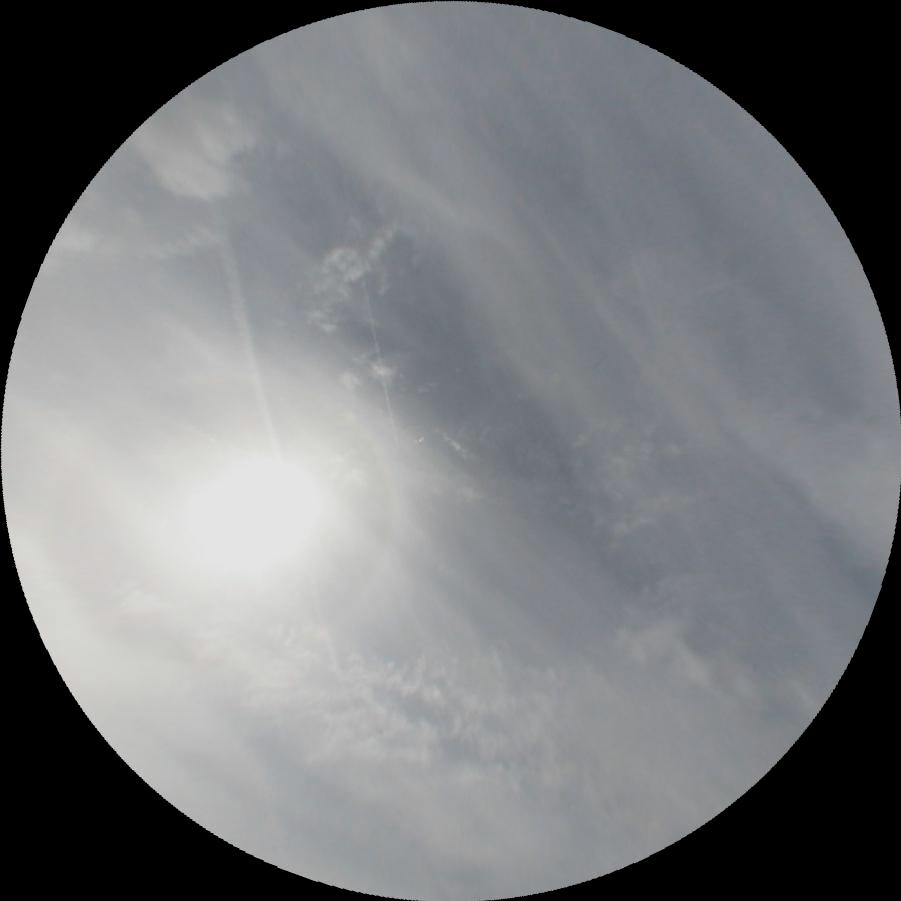contrail old: (204, 194, 336, 671)
contrail young: (340, 166, 398, 439)
parasite: (10, 354, 251, 455)
sun: (163, 430, 339, 599)
